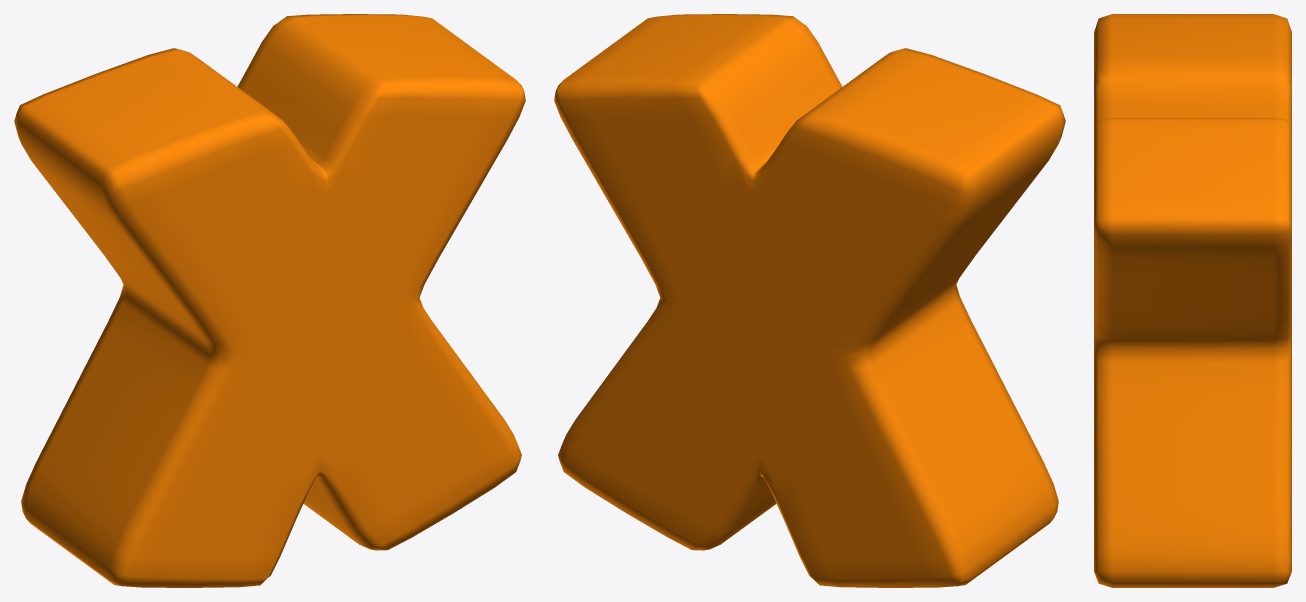
3 views of the same model, side by side, from view 1: azimuth 30°, elevation 25°; view 2: azimuth 150°, elevation 25°; view 3: azimuth 270°, elevation 25° (orthographic). The views are drawn at different scales.
Visible parts, largest first — view 1: LETTER_X; view 2: LETTER_X; view 3: LETTER_X.
Boxes of the visible parts, x1=… form: LETTER_X: x1=14, y1=14, x2=525, y2=587; LETTER_X: x1=554, y1=14, x2=1065, y2=587; LETTER_X: x1=1094, y1=14, x2=1291, y2=587.
Bounding box in the file's own units: 0.9308 × 1 × 0.3943.
